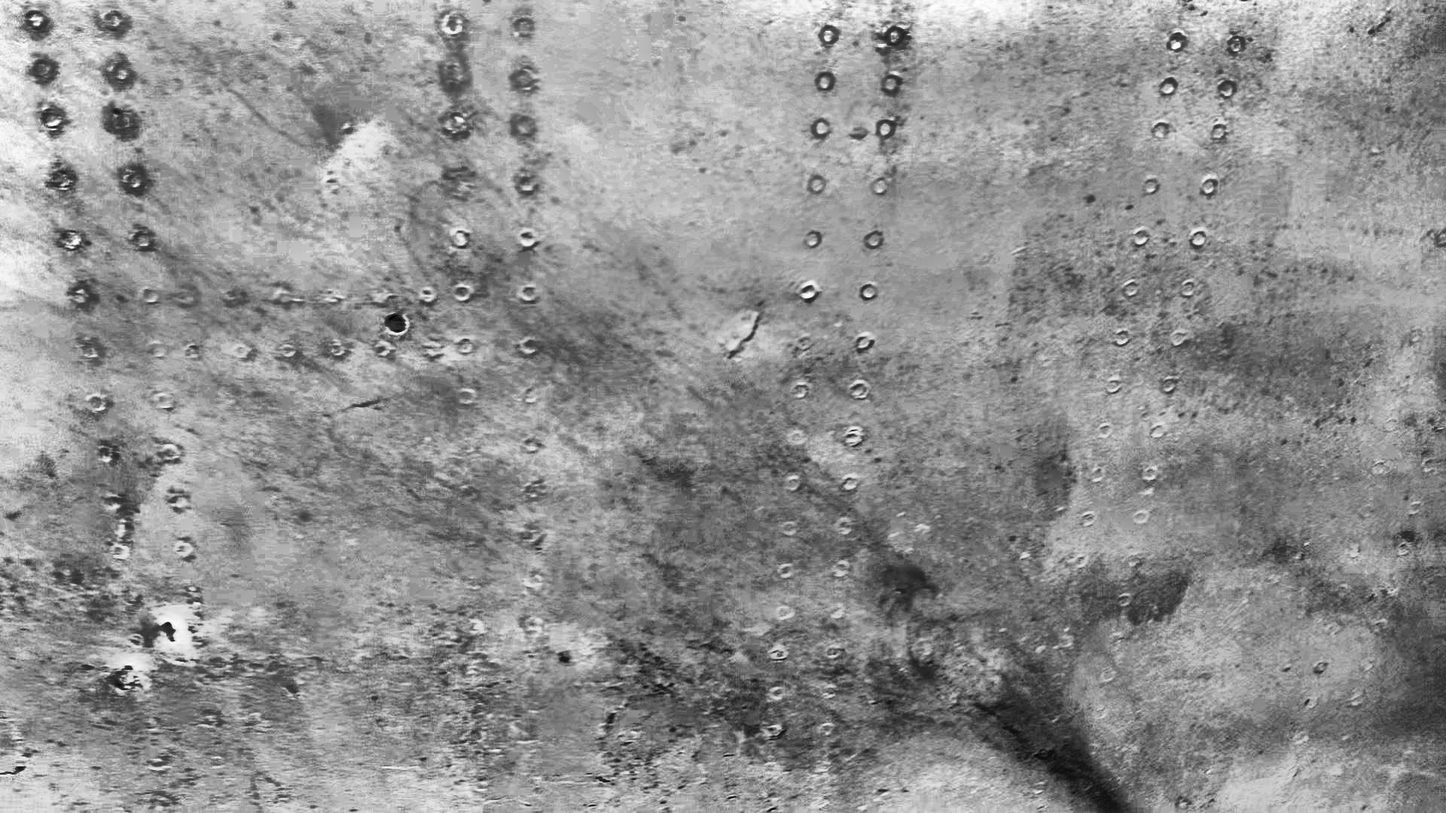dent: (331, 115, 369, 156)
paint-peel-off: (731, 311, 761, 354), (113, 664, 137, 693), (164, 617, 181, 644)
